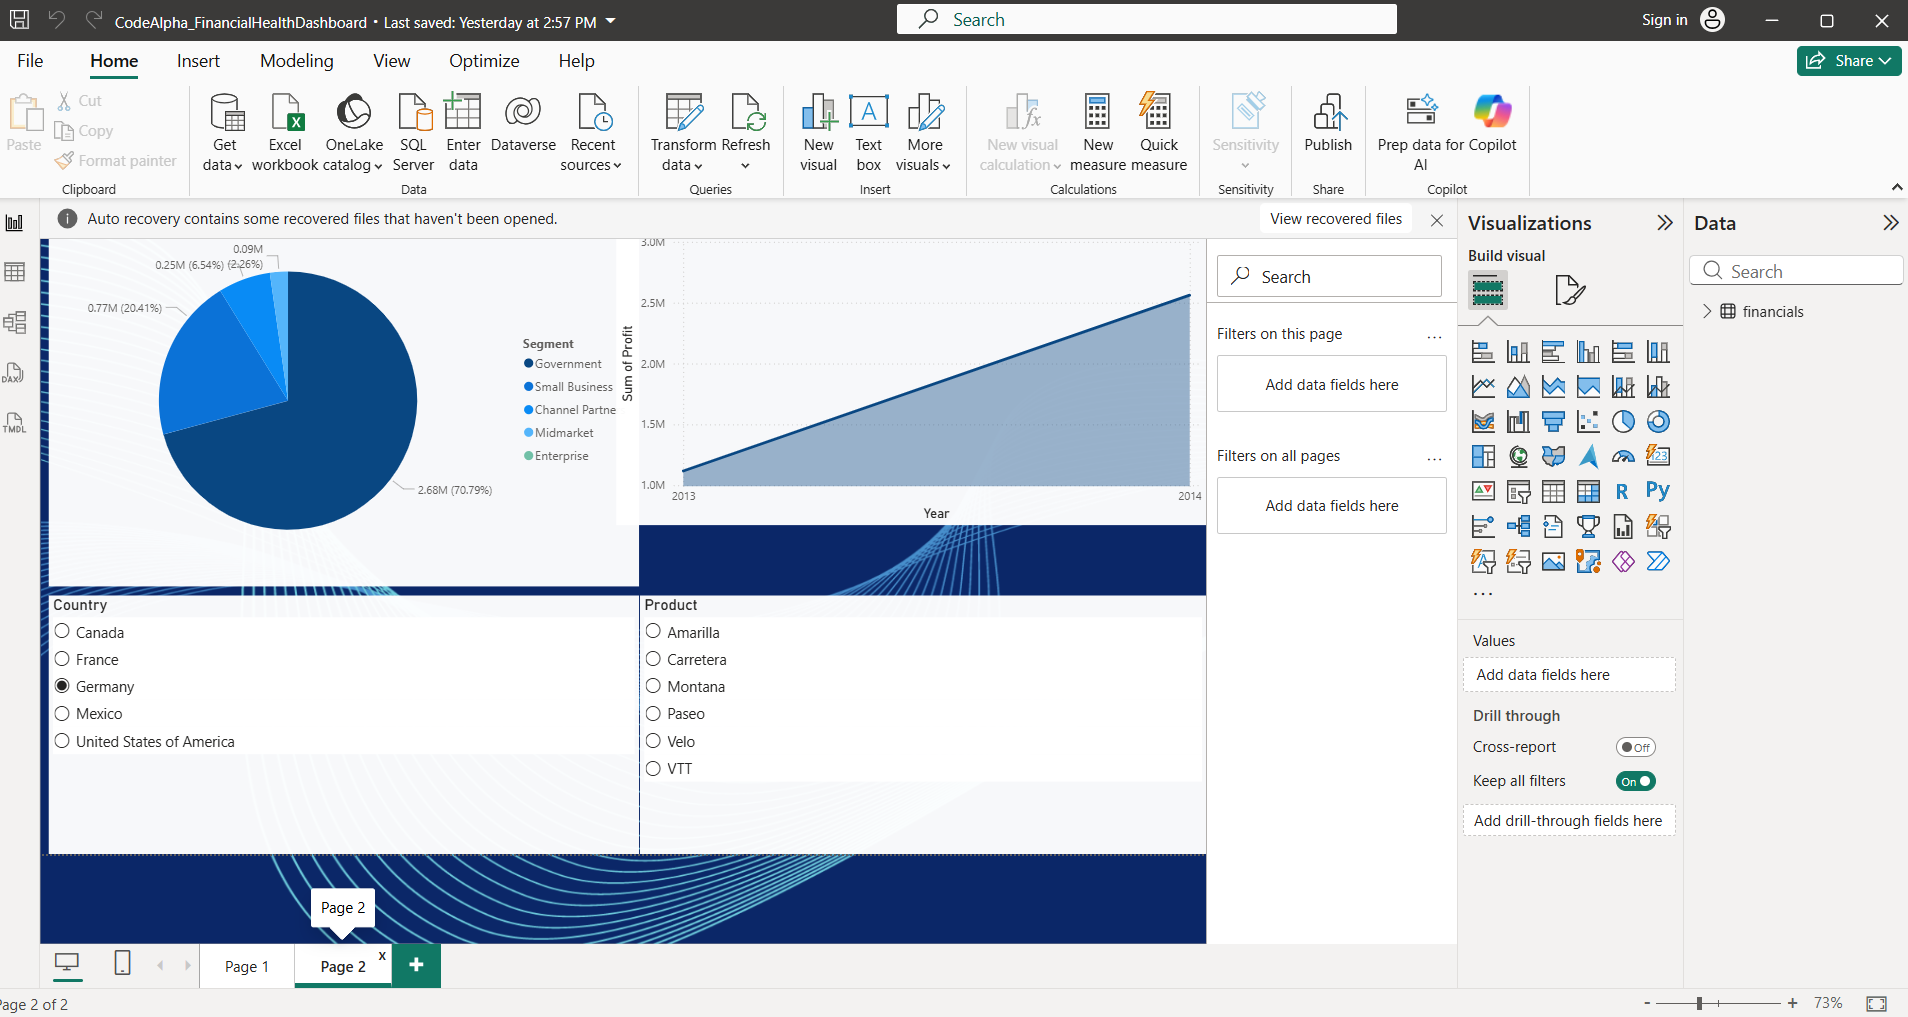

Layout of this report page (visuals, bound fields, positions):
{"tool":"powerbi","page":{"name":"Page 2","canvas":[1280,720],"ordinal":1},"visuals":[{"type":"pieChart","fields":{"Category":["financials.Segment"],"Y":["Sum(financials.Profit)"]},"box":[10.2,0,647.7,426.1],"z":0},{"type":"areaChart","fields":{"Category":["financials.Date.Variation.Date Hierarchy.Year","financials.Date.Variation.Date Hierarchy.Quarter","financials.Date.Variation.Date Hierarchy.Month","financials.Date.Variation.Date Hierarchy.Day"],"Y":["Sum(financials.Profit)"]},"box":[632.4,15.3,647.7,344.3],"z":1},{"type":"listSlicer","fields":{"Values":["financials.Country"]},"box":[10,436,648,284],"z":2},{"type":"listSlicer","fields":{"Values":["financials.Product"]},"box":[658,436,622,284],"z":3}]}

Visuals, with their boxes on the page's 1280x720 design canvas (x1, y1, x2, y2). These are canvas units, not pixel positions in the 1908x1017 screenshot, which may show the page scaled, cropped or inside an application window:
pieChart - financials.Segment x Sum(financials.Profit): (x1=10, y1=0, x2=658, y2=426)
areaChart - financials.Date.Variation.Date Hierarchy.Year x financials.Date.Variation.Date Hierarchy.Quarter: (x1=632, y1=15, x2=1280, y2=360)
listSlicer - financials.Country: (x1=10, y1=436, x2=658, y2=720)
listSlicer - financials.Product: (x1=658, y1=436, x2=1280, y2=720)
